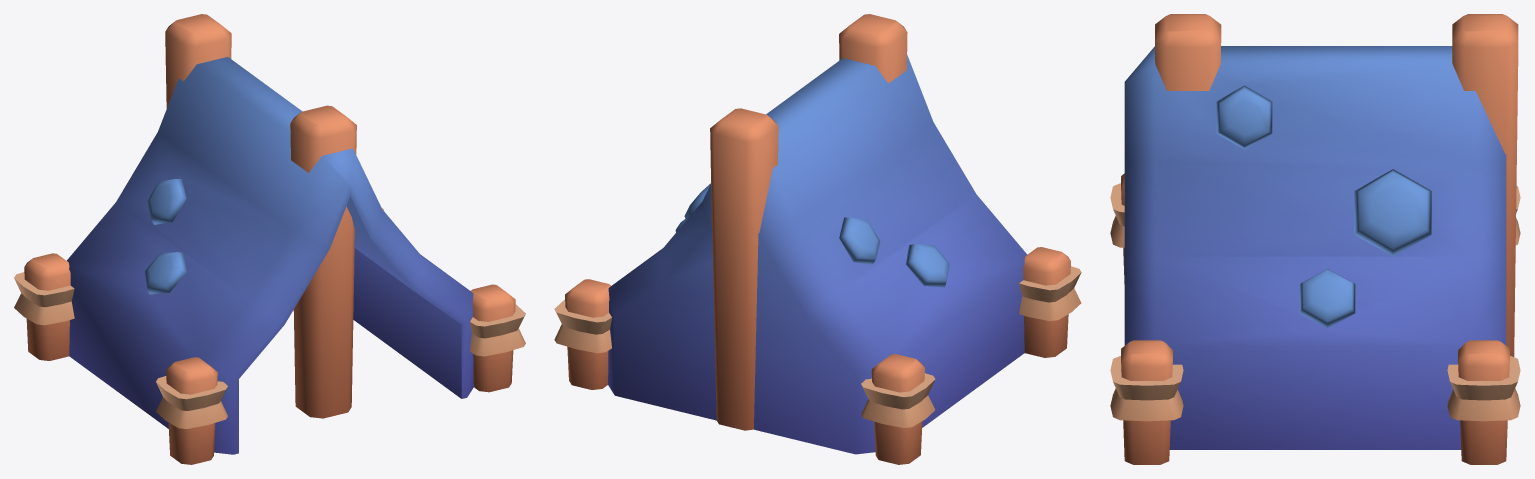
The model's file is s_tent.glb.
3 views of the same model, side by side, from view 1: azimuth 30°, elevation 25°; view 2: azimuth 150°, elevation 25°; view 3: azimuth 270°, elevation 25° (orthographic). The views are drawn at different scales.
Size of the model in its own units: 1.26 by 1 by 1.07.
1 material, 1 textured.
